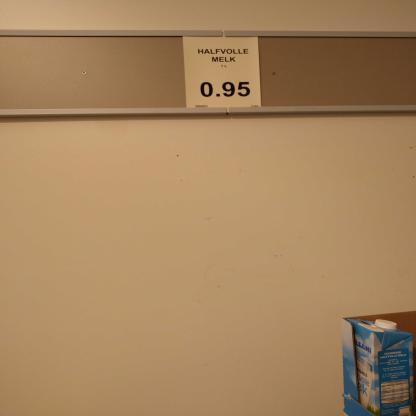prtg: (184, 37, 262, 109)
